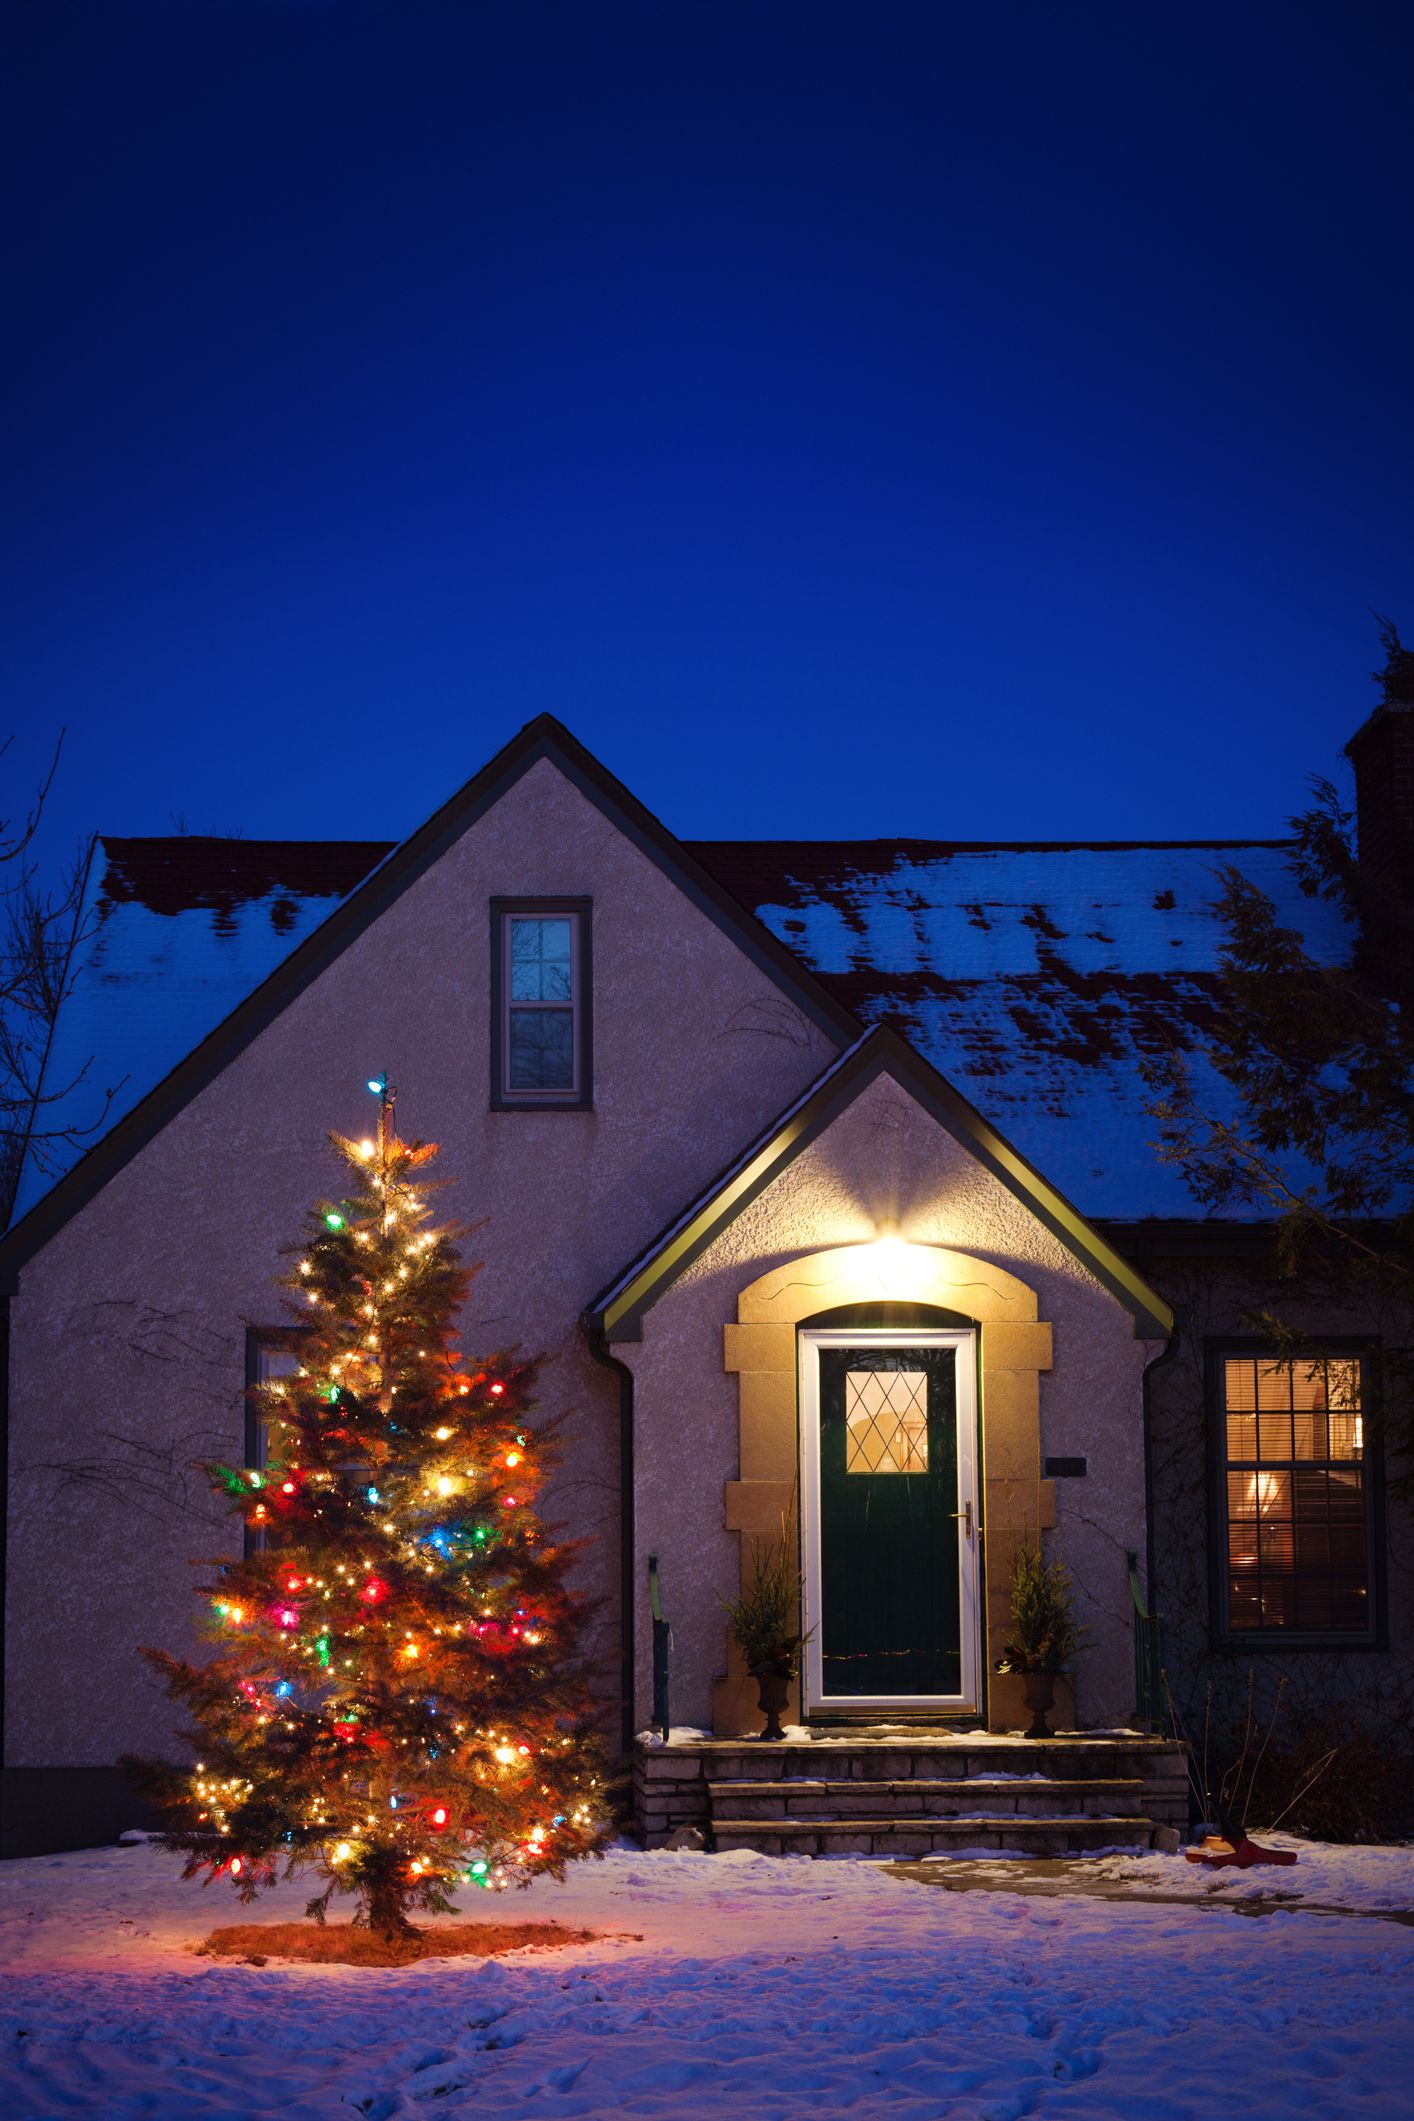tree: (183, 1095, 612, 1954)
